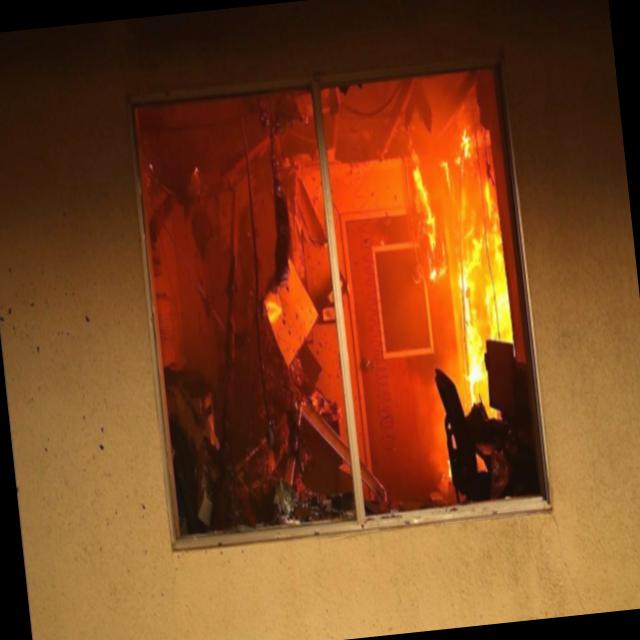fire: (396, 87, 531, 426)
